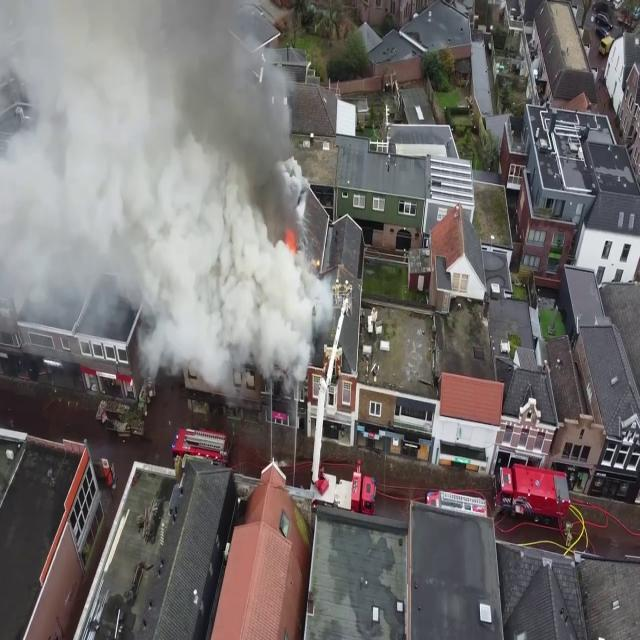Smoke: (0, 0, 321, 378)
